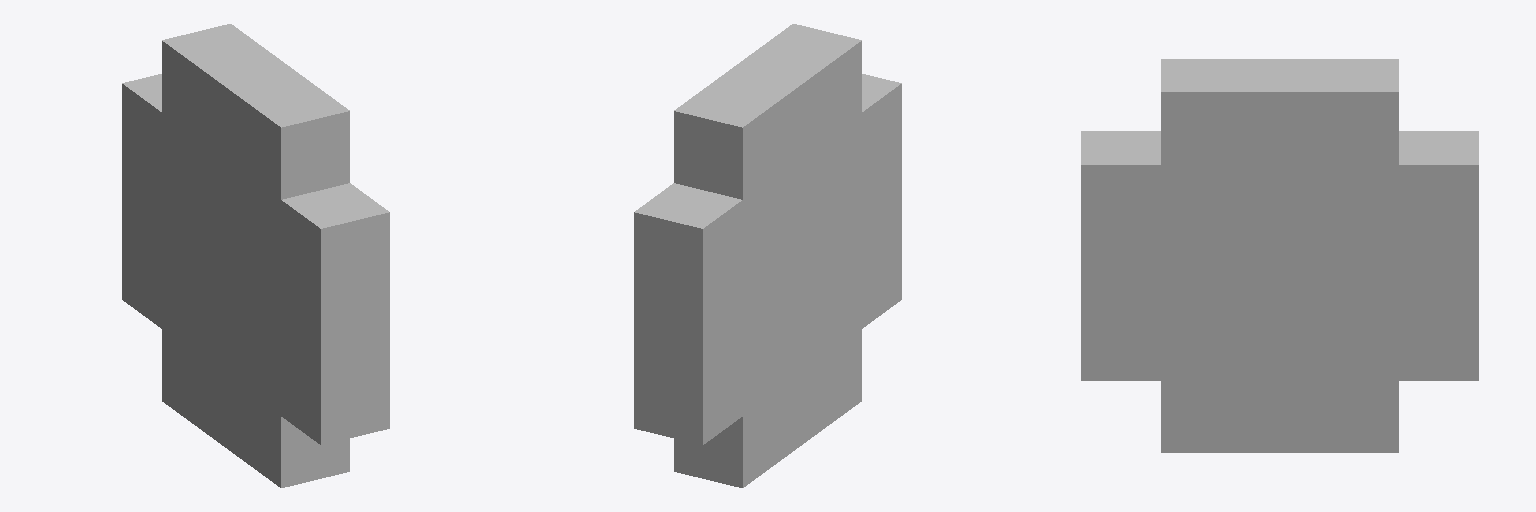
Rendered from shield.obj.
The picture shows the model from 3 angles: view 1: azimuth 30°, elevation 25°; view 2: azimuth 150°, elevation 25°; view 3: azimuth 270°, elevation 25°; orthographic projection.
Parts seen in each view (by area): view 1: object 1; view 2: object 1; view 3: object 1.
Boxes of the visible parts, x1=… form: object 1: x1=122, y1=24, x2=389, y2=487; object 1: x1=634, y1=24, x2=901, y2=487; object 1: x1=1081, y1=59, x2=1478, y2=452.
Bounding box in the file's own units: 0.1 × 0.5 × 0.5.